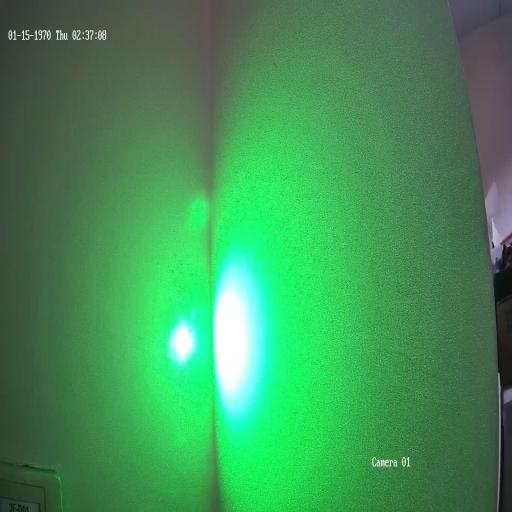laser: (160, 308, 204, 378)
